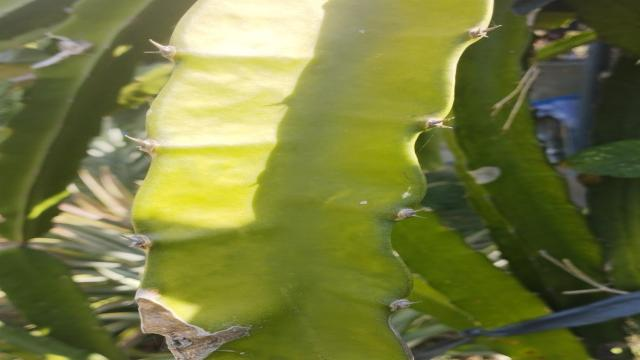stemcanker: (344, 185, 428, 218)
